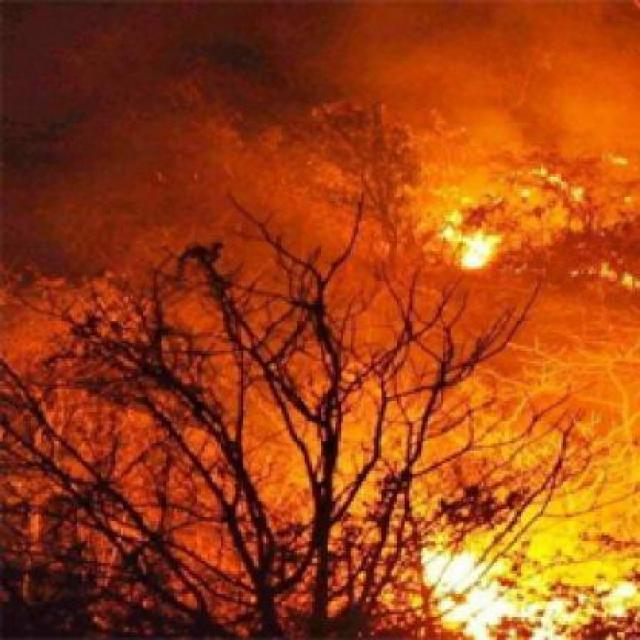Fire: (379, 436, 640, 640), (352, 88, 576, 312)
